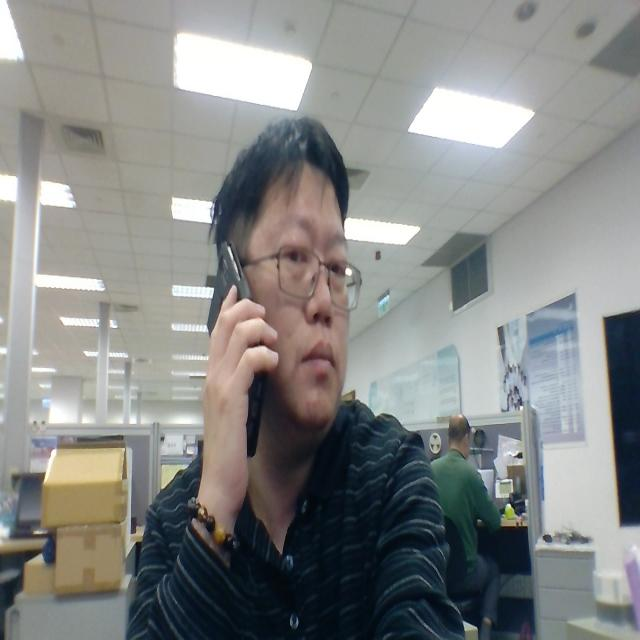phone: (186, 231, 278, 493)
